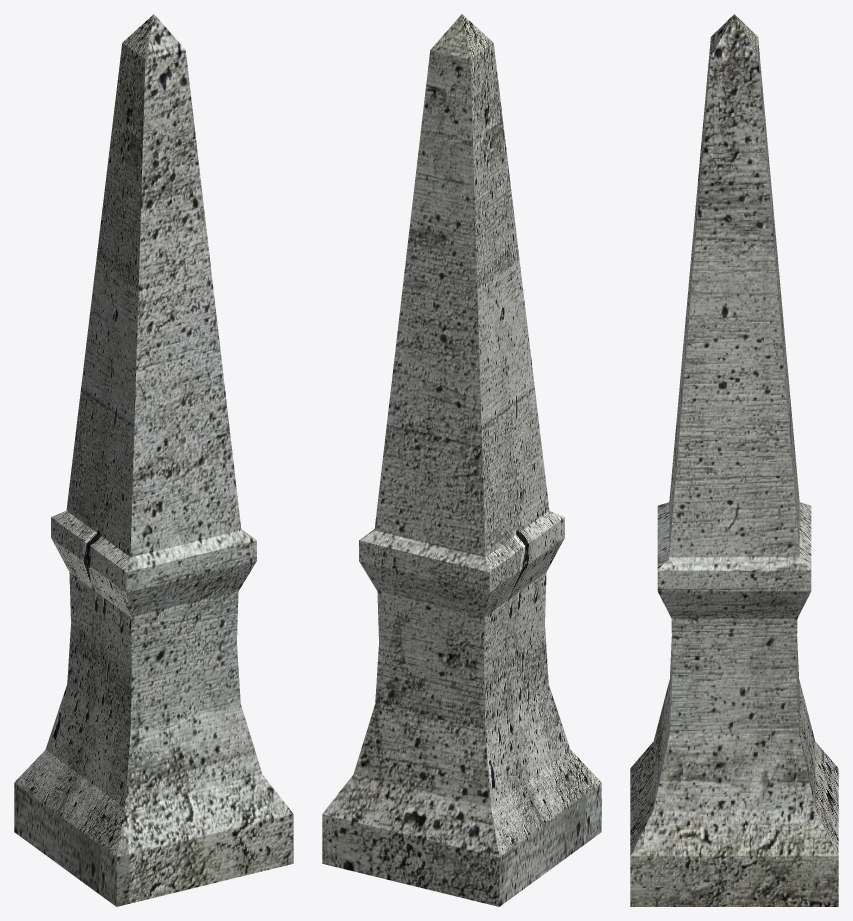
The model's file is Grave 4.fbx.
3 views of the same model, side by side, from view 1: azimuth 30°, elevation 25°; view 2: azimuth 150°, elevation 25°; view 3: azimuth 270°, elevation 25° (orthographic).
Parts seen in each view (by area): view 1: pCube1; view 2: pCube1; view 3: pCube1.
Boxes of the visible parts, bbox=[...] form: pCube1: bbox=[14, 14, 293, 906]; pCube1: bbox=[322, 14, 601, 906]; pCube1: bbox=[630, 14, 838, 906].
Size of the model in its own units: 3.27 by 14.72 by 3.27.
Materials: 1 (1 with a texture image).
